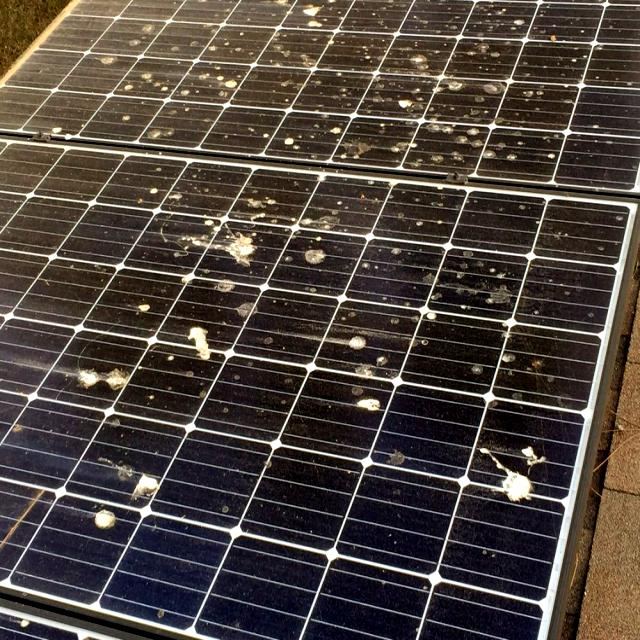bird: (469, 439, 557, 502), (182, 200, 266, 264), (73, 343, 138, 401), (184, 306, 230, 380), (424, 118, 488, 163), (128, 450, 178, 504), (425, 72, 504, 106), (368, 89, 422, 128), (334, 324, 386, 364), (319, 114, 368, 155), (456, 279, 518, 309), (75, 497, 120, 535), (342, 387, 399, 415), (122, 284, 160, 324), (384, 47, 437, 72), (296, 245, 336, 277), (274, 118, 302, 162), (397, 89, 428, 122), (203, 68, 242, 94), (202, 274, 248, 292)
